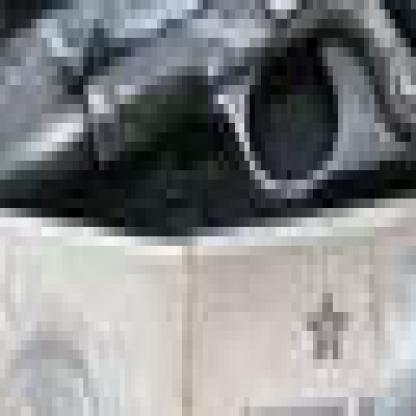gun: (0, 0, 411, 407)
